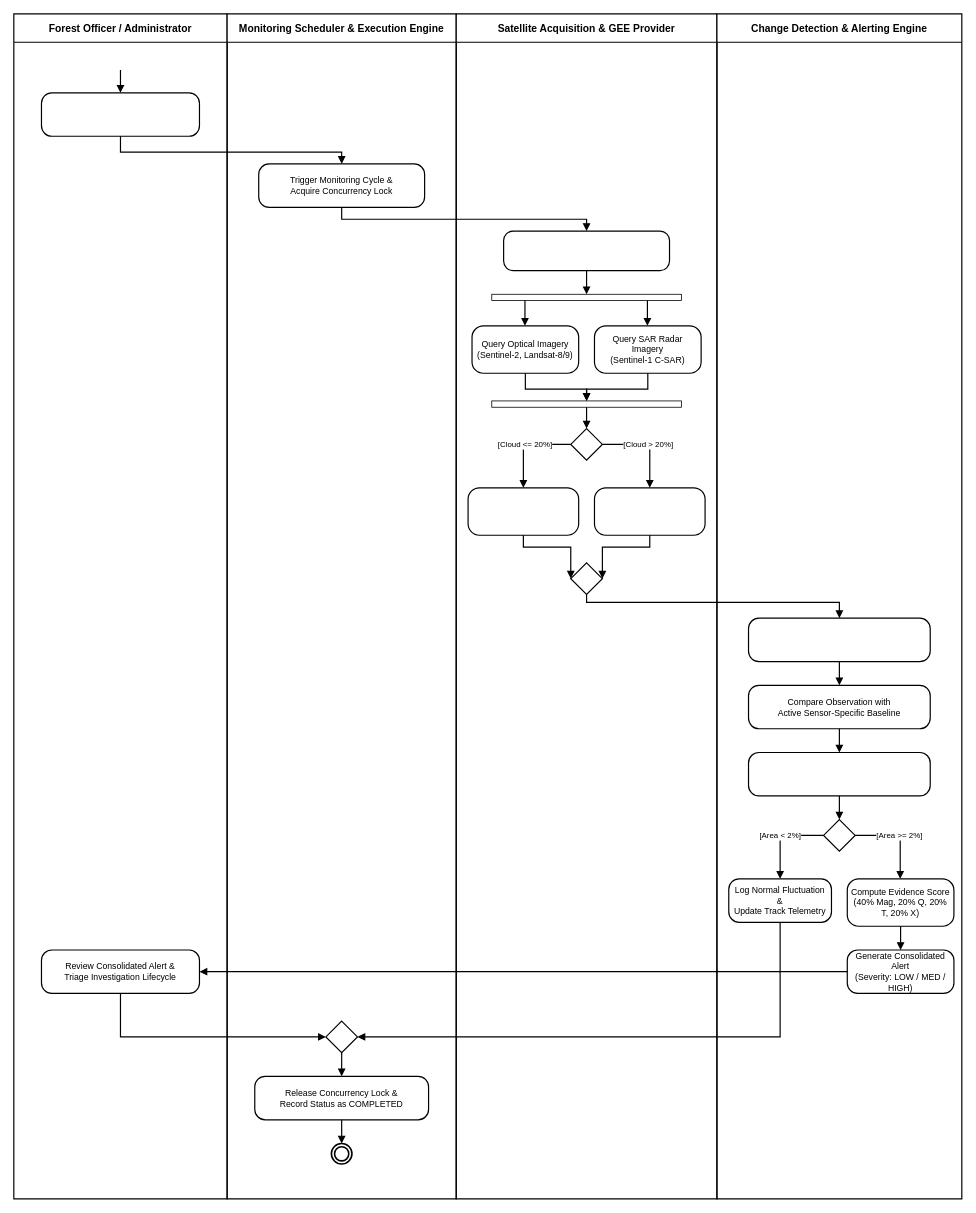
This 976x1213 diagram has some shape labels left out. The centre of each missing label's shape, as x and y in pixels:
Calculate Spatial Changed Area Percentage: (Area / Total) * 100: the point at 839,774
Compute Dedicated Indices (NDVI/BSI for Optical, VV/VH for SAR): the point at 839,639
Define Monitored Zone & Set Optical & SAR Tracks: the point at 120,114
Flag Cloud-Degraded & Trigger SAR Fallback Reduction: the point at 649,511
Initialize Provider & Resolve Acquisition Window: the point at 586,250
Select Optical Observation & Execute GEE reduceRegion: the point at 523,511
